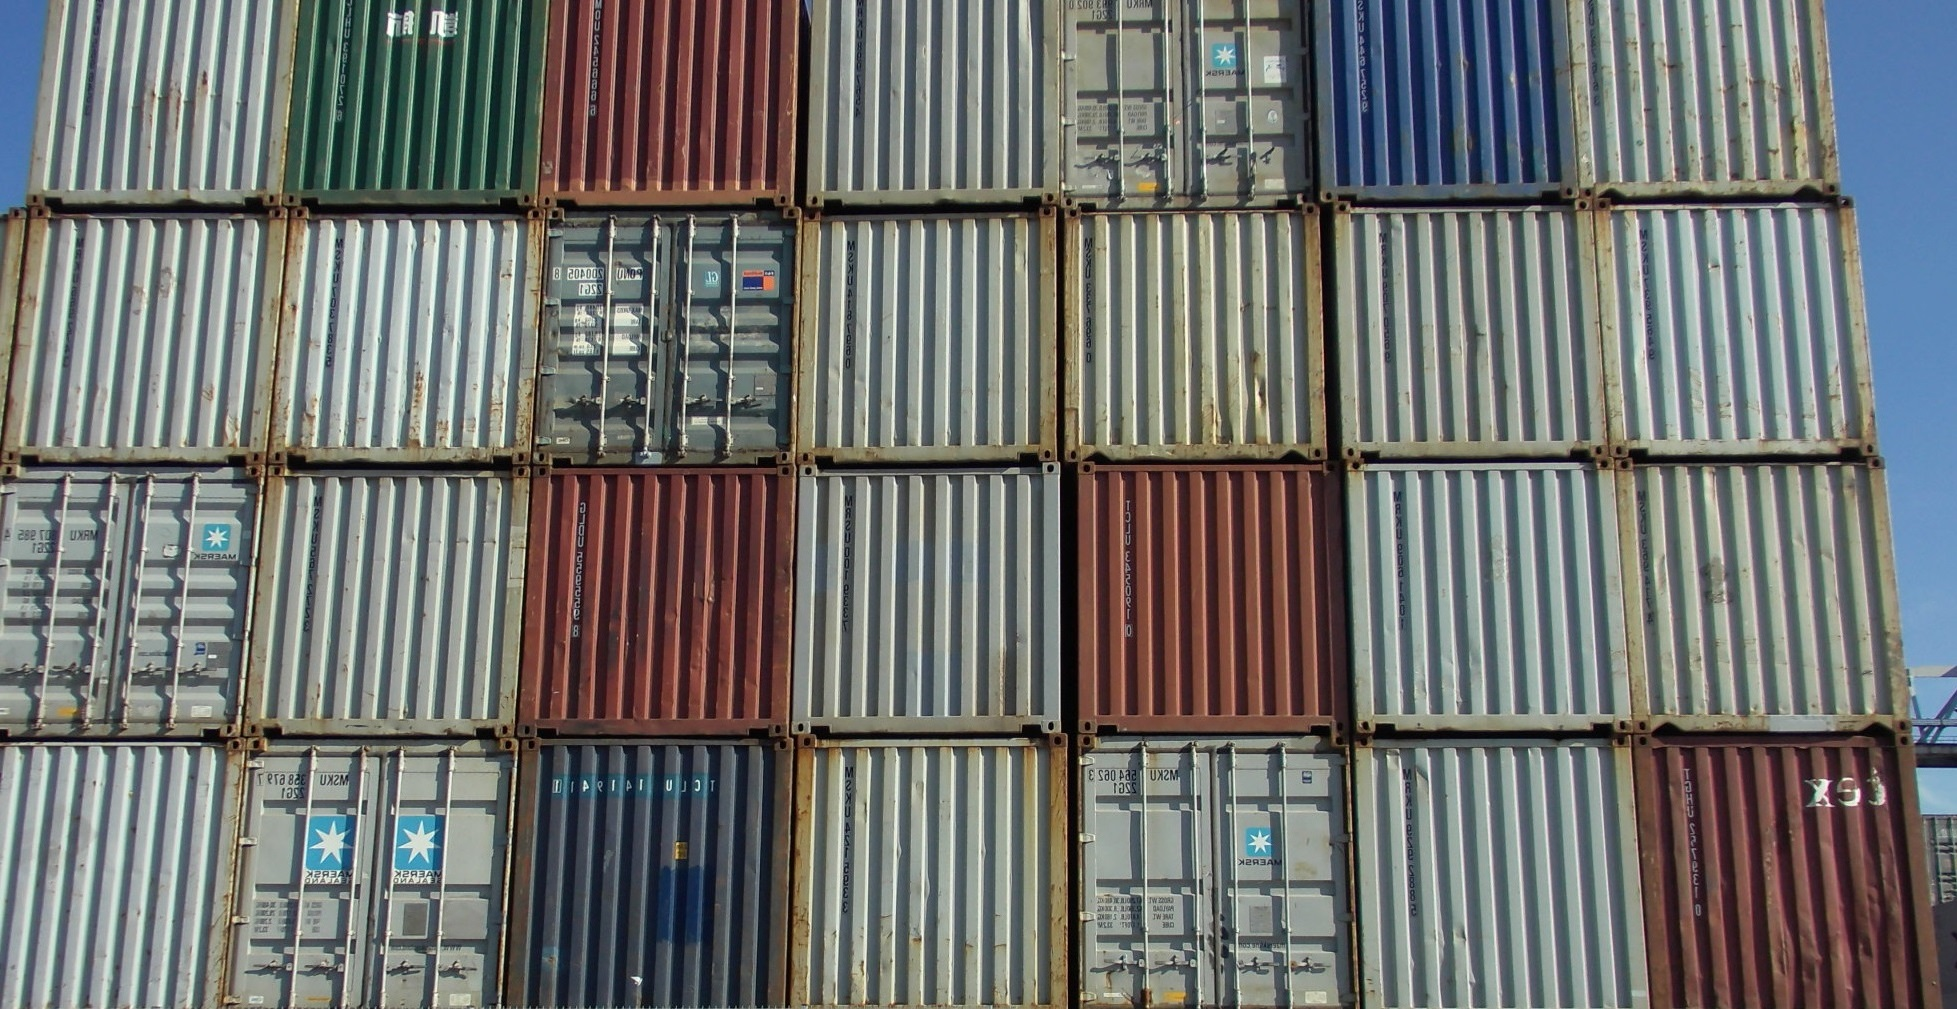container_door: (226, 731, 507, 1009), (1068, 731, 1347, 1009), (528, 202, 804, 456), (1, 458, 247, 735), (1041, 1, 1311, 210)
container_no_door: (237, 461, 531, 741), (793, 734, 1074, 1009), (513, 734, 795, 1009), (1061, 461, 1345, 735), (1648, 734, 1929, 1009), (1343, 462, 1625, 736), (1619, 459, 1900, 734), (1360, 734, 1640, 1008), (535, 462, 795, 741), (799, 466, 1059, 745), (1318, 208, 1599, 465), (1592, 202, 1872, 458), (1051, 205, 1330, 459), (794, 202, 1061, 465), (13, 207, 280, 468), (268, 208, 533, 471), (1, 734, 232, 1009), (1312, 1, 1577, 205), (30, 1, 293, 205), (786, 1, 1050, 205), (1583, 1, 1846, 205), (286, 1, 548, 205), (540, 1, 803, 205)
